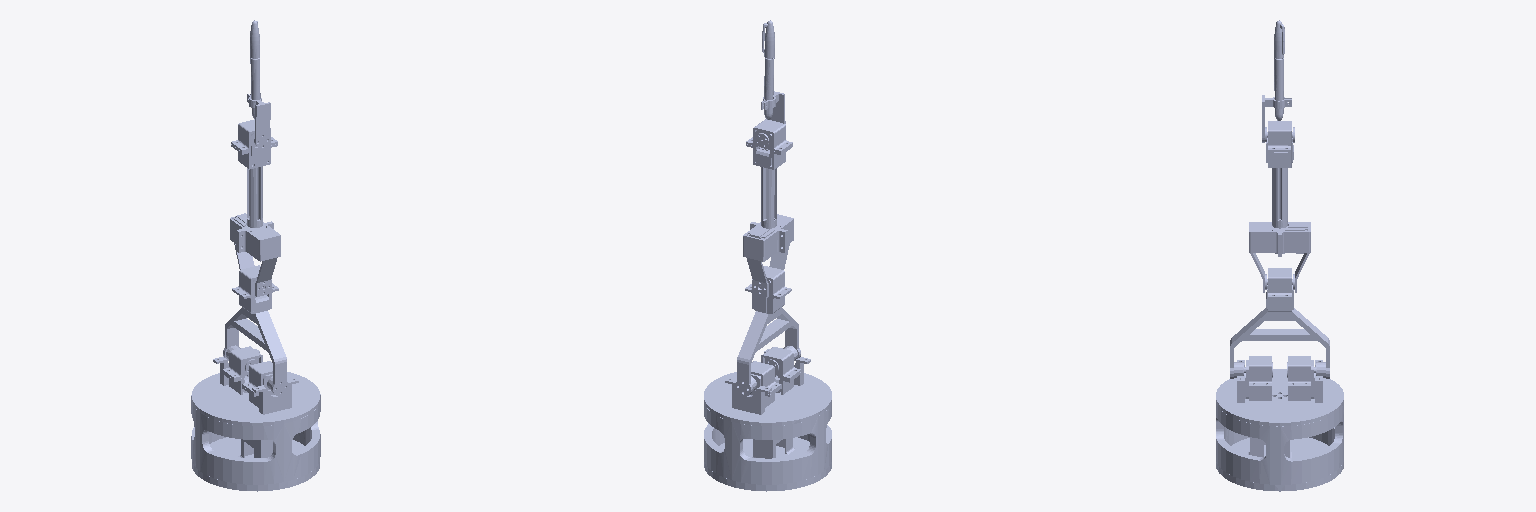
The robot description file, URDF, robot "robot_arm_model":
<?xml version="1.0" encoding="utf-8"?>
<!-- This URDF was automatically created by SolidWorks to URDF Exporter! Originally created by Stephen Brawner (brawner@gmail.com) 
     Commit Version: 1.6.0-4-g7f85cfe  Build Version: 1.6.7995.38578
     For more information, please see http://wiki.ros.org/sw_urdf_exporter -->
<robot
  name="robot_arm_model">
  <link
    name="base_link">
    <inertial>
      <origin
        xyz="-3.47801659000835E-09 -0.00137685013667123 0.00290238739920909"
        rpy="0 0 0" />
      <mass
        value="0.197561432605601" />
      <inertia
        ixx="0.000319788734568883"
        ixy="-2.33003929867543E-11"
        ixz="3.27701156372687E-12"
        iyy="0.000312074001215995"
        iyz="7.6168849433123E-06"
        izz="0.000587024967604945" />
    </inertial>
    <visual>
      <origin
        xyz="0 0 0"
        rpy="0 0 0" />
      <geometry>
        <mesh
          filename="package://robot_arm_model/meshes/base_link.STL" />
      </geometry>
      <material
        name="">
        <color
          rgba="0.792156862745098 0.819607843137255 0.933333333333333 1" />
      </material>
    </visual>
    <collision>
      <origin
        xyz="0 0 0"
        rpy="0 0 0" />
      <geometry>
        <mesh
          filename="package://robot_arm_model/meshes/base_link.STL" />
      </geometry>
    </collision>
  </link>
  <link
    name="Link_1">
    <inertial>
      <origin
        xyz="-1.35493166983774E-05 -1.94330657121711E-09 0.0096821016135524"
        rpy="0 0 0" />
      <mass
        value="0.229136443276943" />
      <inertia
        ixx="0.000256947607167861"
        ixy="7.89569731702562E-09"
        ixz="-1.05259206922075E-20"
        iyy="0.000202208144345894"
        iyz="-7.48590180122919E-19"
        izz="0.000407674877401527" />
    </inertial>
    <visual>
      <origin
        xyz="0 0 0"
        rpy="0 0 0" />
      <geometry>
        <mesh
          filename="package://robot_arm_model/meshes/Link_1.STL" />
      </geometry>
      <material
        name="">
        <color
          rgba="0.792156862745098 0.819607843137255 0.933333333333333 1" />
      </material>
    </visual>
    <collision>
      <origin
        xyz="0 0 0"
        rpy="0 0 0" />
      <geometry>
        <mesh
          filename="package://robot_arm_model/meshes/Link_1.STL" />
      </geometry>
    </collision>
  </link>
  <joint
    name="Joint_1"
    type="revolute">
    <origin
      xyz="0 0 0.0896"
      rpy="0 0 0" />
    <parent
      link="base_link" />
    <child
      link="Link_1" />
    <axis
      xyz="0 0 1" />
    <limit
      lower="-3.14"
      upper="3.14"
      effort="0"
      velocity="0" />
  </joint>
  <link
    name="Link_2">
    <inertial>
      <origin
        xyz="0.0770646017726428 0.000297060030787284 0.009026170415379"
        rpy="0 0 0" />
      <mass
        value="0.0998795287451604" />
      <inertia
        ixx="8.60911209529187E-05"
        ixy="-7.62397176355866E-08"
        ixz="-8.88841404267126E-09"
        iyy="0.000123190808693446"
        iyz="1.05290135762449E-08"
        izz="4.98247764993332E-05" />
    </inertial>
    <visual>
      <origin
        xyz="0 0 0"
        rpy="0 0 0" />
      <geometry>
        <mesh
          filename="package://robot_arm_model/meshes/Link_2.STL" />
      </geometry>
      <material
        name="">
        <color
          rgba="0.792156862745098 0.819607843137255 0.933333333333333 1" />
      </material>
    </visual>
    <collision>
      <origin
        xyz="0 0 0"
        rpy="0 0 0" />
      <geometry>
        <mesh
          filename="package://robot_arm_model/meshes/Link_2.STL" />
      </geometry>
    </collision>
  </link>
  <joint
    name="Joint_2"
    type="revolute">
    <origin
      xyz="-4.6306E-05 0.009105 0.035115"
      rpy="1.5708 -1.5708 0" />
    <parent
      link="Link_1" />
    <child
      link="Link_2" />
    <axis
      xyz="0 0 -1" />
    <limit
      lower="-1.57"
      upper="1.57"
      effort="0"
      velocity="0" />
  </joint>
  <link
    name="Link_3">
    <inertial>
      <origin
        xyz="0.0572527286378713 0.000498882729479441 -0.0190128236324398"
        rpy="0 0 0" />
      <mass
        value="0.0800891538655468" />
      <inertia
        ixx="1.78810644347874E-05"
        ixy="-8.52927406300288E-08"
        ixz="-9.94348562032073E-08"
        iyy="2.81208685051193E-05"
        iyz="-2.82607149488716E-10"
        izz="2.42971979807949E-05" />
    </inertial>
    <visual>
      <origin
        xyz="0 0 0"
        rpy="0 0 0" />
      <geometry>
        <mesh
          filename="package://robot_arm_model/meshes/Link_3.STL" />
      </geometry>
      <material
        name="">
        <color
          rgba="0.792156862745098 0.819607843137255 0.933333333333333 1" />
      </material>
    </visual>
    <collision>
      <origin
        xyz="0 0 0"
        rpy="0 0 0" />
      <geometry>
        <mesh
          filename="package://robot_arm_model/meshes/Link_3.STL" />
      </geometry>
    </collision>
  </link>
  <joint
    name="Joint_3"
    type="revolute">
    <origin
      xyz="0.1207 0.00050737 0.027705"
      rpy="0 0 0" />
    <parent
      link="Link_2" />
    <child
      link="Link_3" />
    <axis
      xyz="0 0 -1" />
    <limit
      lower="-3.14"
      upper="3.14"
      effort="0"
      velocity="0" />
  </joint>
  <link
    name="Link_4">
    <inertial>
      <origin
        xyz="0.000799958299252133 0.00011657439394902 0.0930954914379056"
        rpy="0 0 0" />
      <mass
        value="0.0674532689964478" />
      <inertia
        ixx="3.82940984655331E-05"
        ixy="1.47962436078869E-08"
        ixz="-2.38155462797139E-07"
        iyy="3.93756013071029E-05"
        iyz="8.71819780372487E-09"
        izz="9.68469338243075E-06" />
    </inertial>
    <visual>
      <origin
        xyz="0 0 0"
        rpy="0 0 0" />
      <geometry>
        <mesh
          filename="package://robot_arm_model/meshes/Link_4.STL" />
      </geometry>
      <material
        name="">
        <color
          rgba="0.792156862745098 0.819607843137255 0.933333333333333 1" />
      </material>
    </visual>
    <collision>
      <origin
        xyz="0 0 0"
        rpy="0 0 0" />
      <geometry>
        <mesh
          filename="package://robot_arm_model/meshes/Link_4.STL" />
      </geometry>
    </collision>
  </link>
  <joint
    name="Joint_4"
    type="revolute">
    <origin
      xyz="0.078329 0.00070001 -0.018605"
      rpy="1.5708 0 1.5708" />
    <parent
      link="Link_3" />
    <child
      link="Link_4" />
    <axis
      xyz="0 0 1" />
    <limit
      lower="-3.14"
      upper="3.14"
      effort="0"
      velocity="0" />
  </joint>
  <link
    name="Link_5">
    <inertial>
      <origin
        xyz="0.0287804050345146 -0.000560170268647429 -0.00227154374529588"
        rpy="0 0 0" />
      <mass
        value="0.00561283462760797" />
      <inertia
        ixx="6.29077871668555E-07"
        ixy="3.5213261615214E-08"
        ixz="4.57338260025281E-07"
        iyy="2.20459655958922E-06"
        iyz="-1.2825144232339E-08"
        izz="1.88108570714529E-06" />
    </inertial>
    <visual>
      <origin
        xyz="0 0 0"
        rpy="3.14 0 0" />
      <geometry>
        <mesh
          filename="package://robot_arm_model/meshes/Link_5.STL" />
      </geometry>
      <material
        name="">
        <color
          rgba="0.792156862745098 0.819607843137255 0.933333333333333 1" />
      </material>
    </visual>
    <collision>
      <origin
        xyz="0 0 0"
        rpy="0 0 0" />
      <geometry>
        <mesh
          filename="package://robot_arm_model/meshes/Link_5.STL" />
      </geometry>
    </collision>
  </link>
  <joint
    name="Joint_5"
    type="revolute">
    <origin
      xyz="0.0013061 0.017623 0.12261"
      rpy="1.5708 -1.5708 0" />
    <parent
      link="Link_4" />
    <child
      link="Link_5" />
    <axis
      xyz="0 0 1" />
    <limit
      lower="-1.57"
      upper="1.57"
      effort="0"
      velocity="0" />
  </joint>
  <link
    name="End_Effector">
    <inertial>
      <origin
        xyz="-0.0775912474744817 0.00163639600208887 0.000151563367798091"
        rpy="0 0 0" />
      <mass
        value="0.0104223528967023" />
      <inertia
        ixx="2.04826631450584E-07"
        ixy="8.62164522394554E-08"
        ixz="-9.16949402352726E-09"
        iyy="5.34613542504438E-06"
        iyz="-8.30081384390037E-09"
        izz="5.35018584213561E-06" />
    </inertial>
    <visual>
      <origin
        xyz="0 0 0"
        rpy="0 0 0" />
      <geometry>
        <mesh
          filename="package://robot_arm_model/meshes/End_Effector.STL" />
      </geometry>
      <material
        name="">
        <color
          rgba="0.792156862745098 0.819607843137255 0.933333333333333 1" />
      </material>
    </visual>
    <collision>
      <origin
        xyz="0 0 0"
        rpy="0 0 0" />
      <geometry>
        <mesh
          filename="package://robot_arm_model/meshes/End_Effector.STL" />
      </geometry>
    </collision>
  </link>
  <joint
    name="Joint_6"
    type="fixed">
    <origin
      xyz="0.15508 0 0.016567"
      rpy="0 0 0" />
    <parent
      link="Link_5" />
    <child
      link="End_Effector" />
    <axis
      xyz="1 0 0" />
  </joint>
</robot>

--- Render facts (derived) ---
3 views of the same robot in one strip: view 1: azimuth 30°, elevation 25°; view 2: azimuth 150°, elevation 25°; view 3: azimuth 270°, elevation 25° (orthographic).
Model robot_arm_model with 7 links and 6 joints (5 revolute, 1 fixed), rooted at base_link, posed every joint at zero.
Links seen in each view (by area): view 1: Link_1, Link_2, Link_3, Link_4, base_link, Link_5, End_Effector; view 2: Link_1, Link_2, Link_4, Link_3, base_link, End_Effector; view 3: Link_1, Link_2, Link_4, Link_3, base_link, End_Effector.
Link boxes in pixels (bbox=[...]): Link_1: bbox=[191, 346, 320, 484]; Link_2: bbox=[223, 265, 288, 396]; Link_3: bbox=[230, 213, 280, 296]; Link_4: bbox=[231, 119, 277, 226]; base_link: bbox=[192, 437, 319, 491]; Link_5: bbox=[247, 94, 270, 148]; End_Effector: bbox=[250, 20, 260, 118]; Link_1: bbox=[704, 347, 831, 484]; Link_2: bbox=[735, 266, 800, 396]; Link_4: bbox=[746, 119, 792, 226]; Link_3: bbox=[743, 214, 793, 297]; base_link: bbox=[704, 437, 831, 491]; End_Effector: bbox=[762, 20, 774, 119]; Link_1: bbox=[1216, 356, 1343, 484]; Link_2: bbox=[1230, 268, 1329, 378]; Link_4: bbox=[1265, 121, 1294, 226]; Link_3: bbox=[1249, 222, 1310, 292]; base_link: bbox=[1216, 437, 1343, 491]; End_Effector: bbox=[1274, 20, 1284, 120].
Size in the robot's own frame: 0.16 by 0.16 by 0.6073 metres.
7 mesh visuals loaded from 7 distinct referenced files (7 binary STL).
